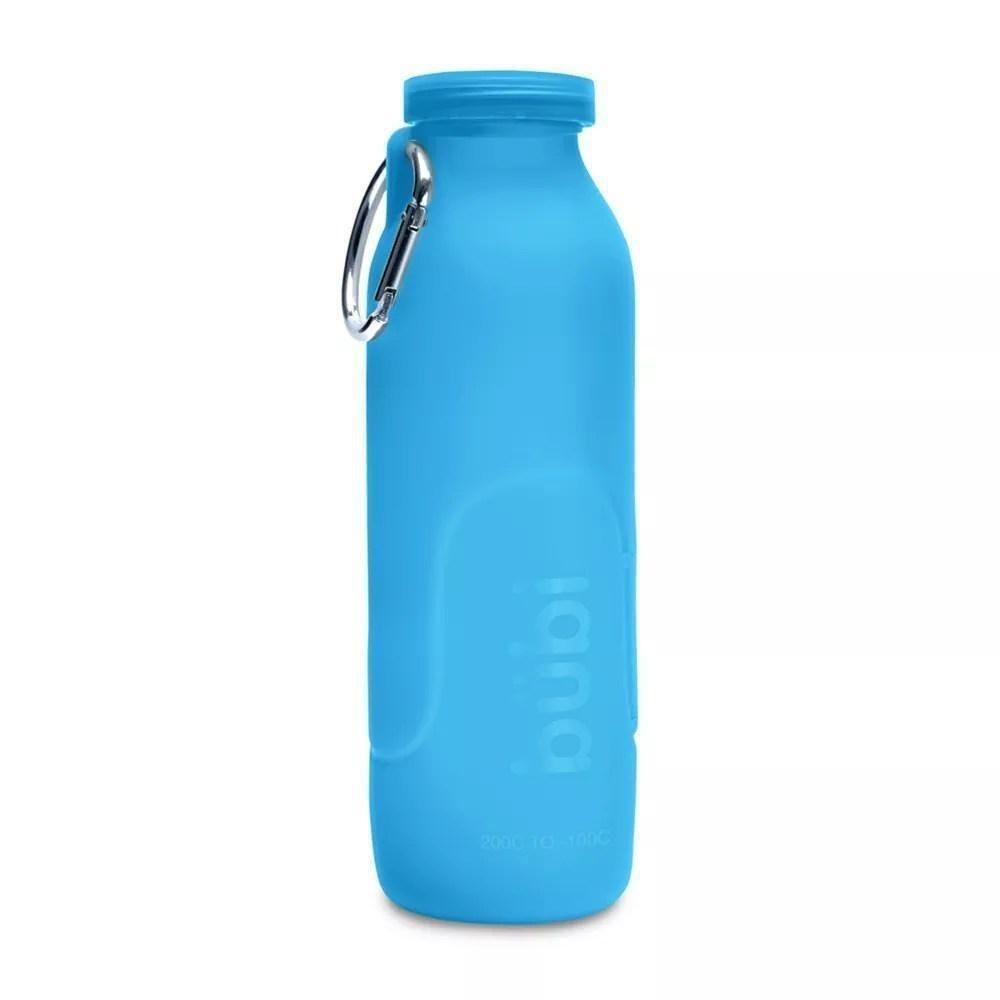gym bottle: (342, 54, 653, 933)
